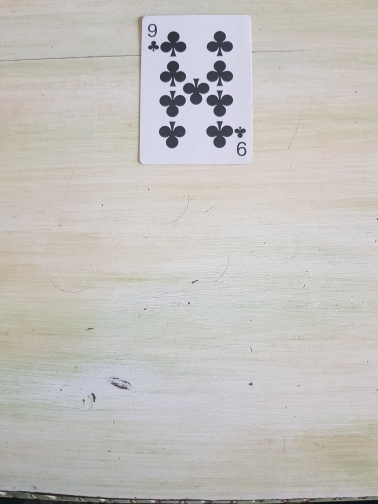nine: (137, 14, 255, 166)
